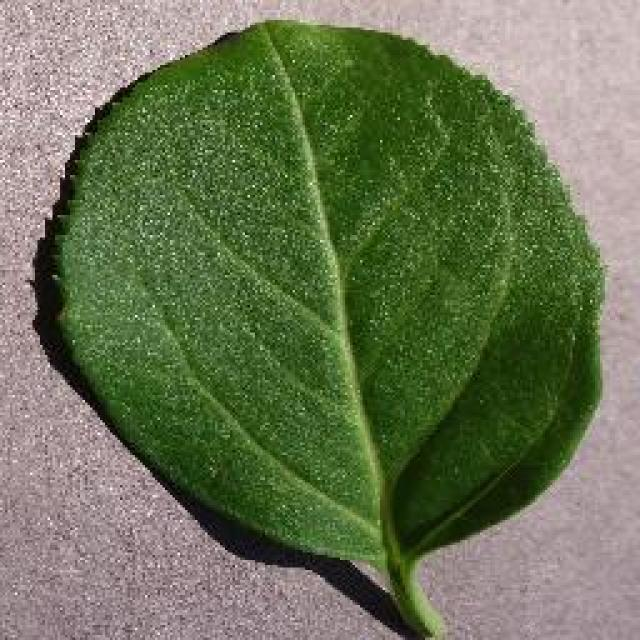Cherry___healthy: (35, 2, 620, 640)
